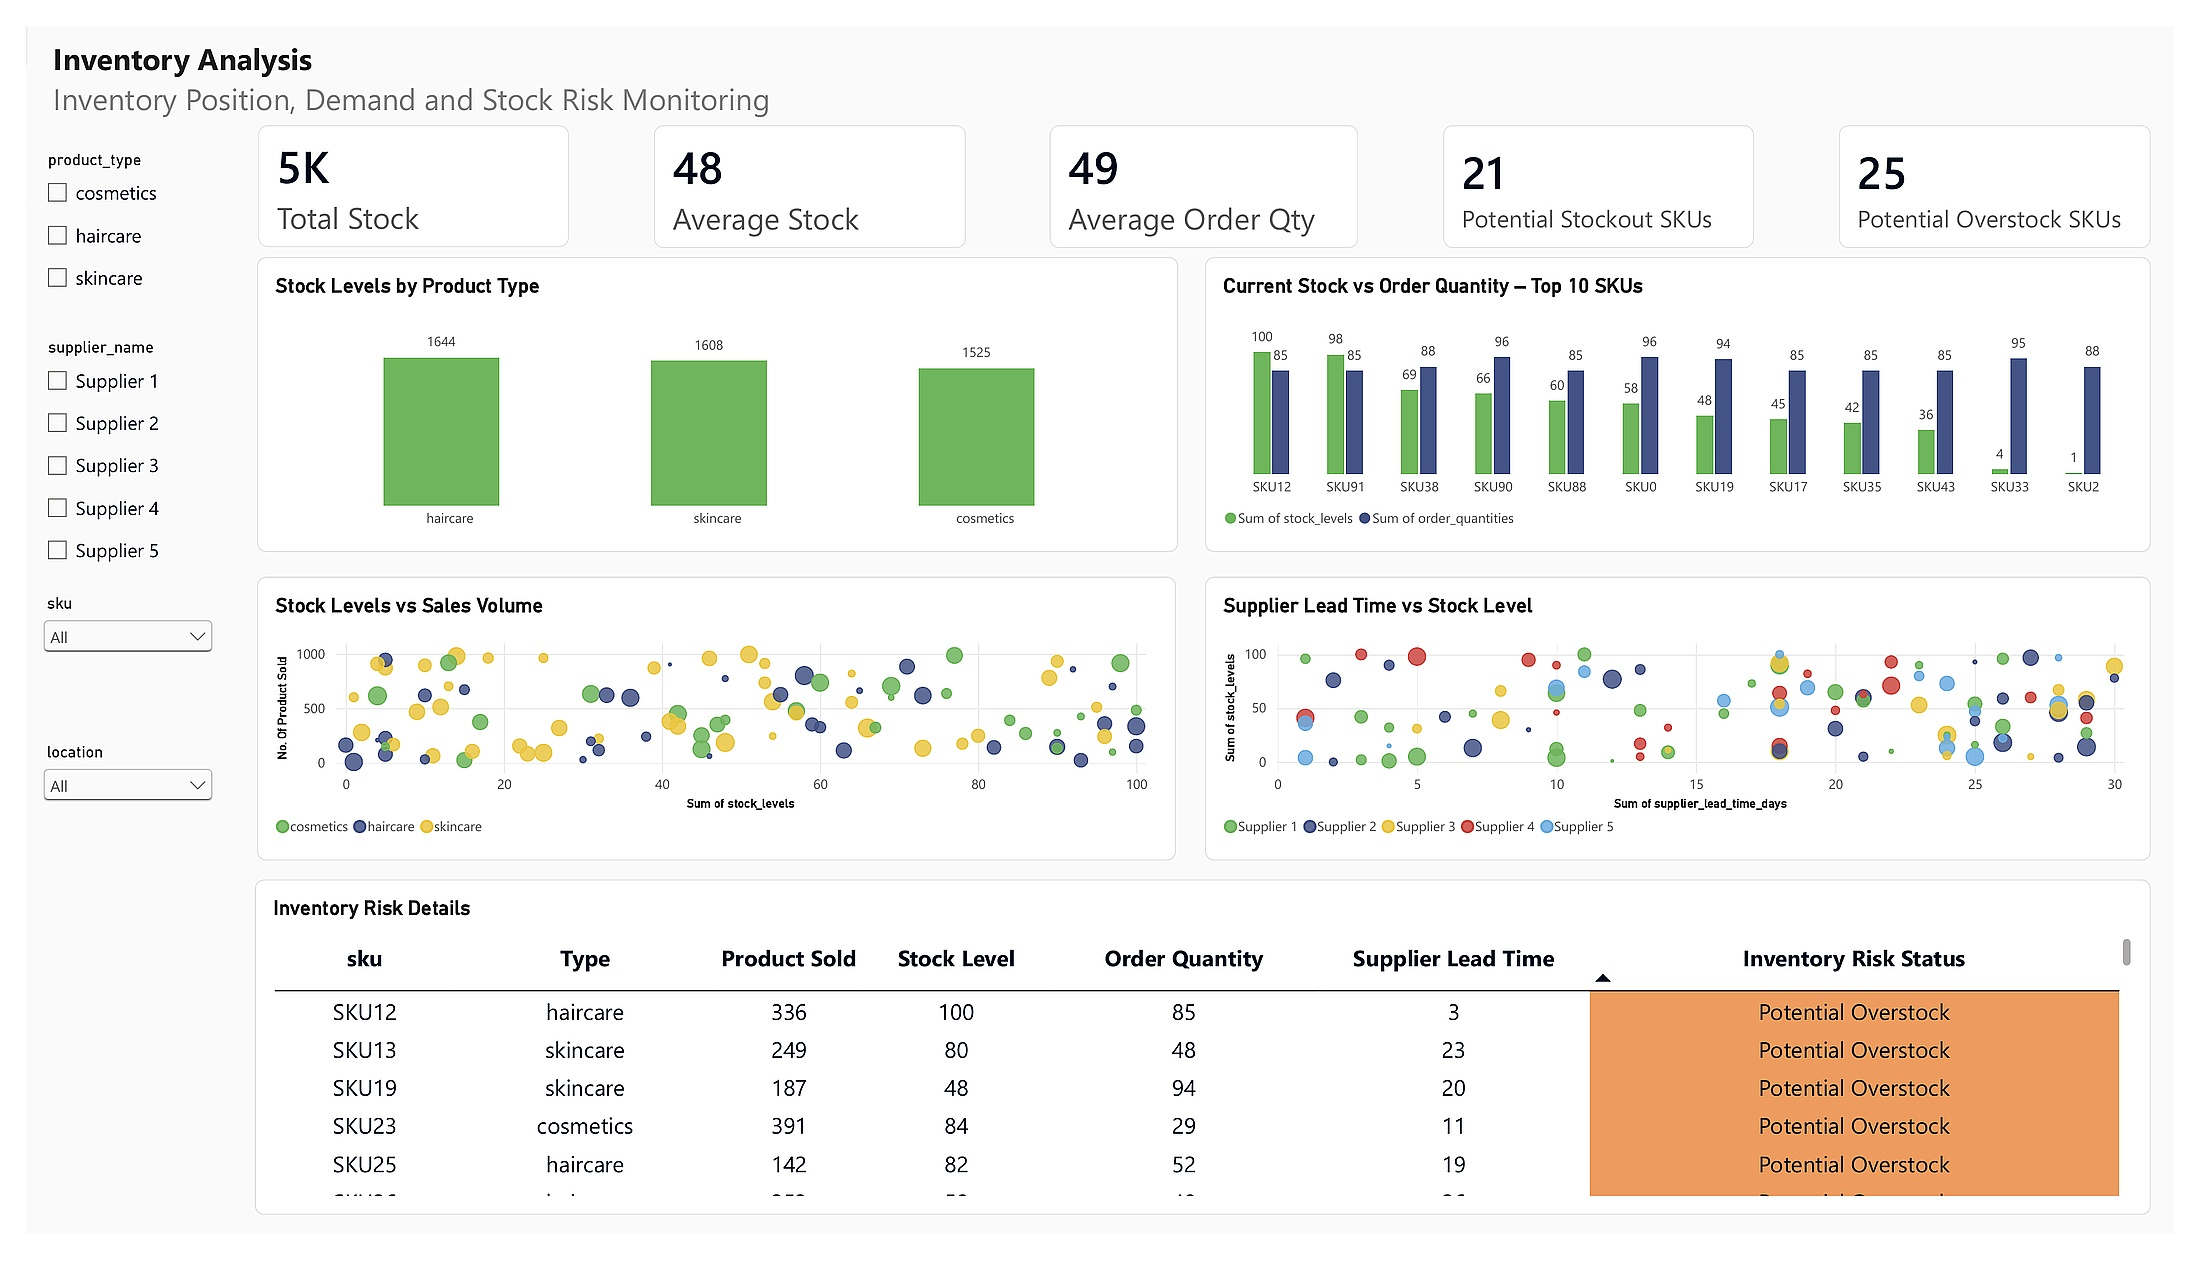

This screenshot's page, from the dashboard's own definition file:
{"tool":"powerbi","page":{"name":"Inventory Analysis","canvas":[1920,1080],"ordinal":2},"visuals":[{"type":"cardVisual","fields":{"Data":["Sum(supply_chain_data_cleaned.stock_levels)"]},"box":[207,88,278.5,109.3],"z":0},{"type":"cardVisual","fields":{"Data":["Avg(supply_chain_data_cleaned.stock_levels)"]},"box":[561.2,88.5,278.5,109.3],"z":1000},{"type":"cardVisual","fields":{"Data":["Avg(supply_chain_data_cleaned.order_quantities)"]},"box":[915.4,88.5,275.8,109.3],"z":2000},{"type":"textbox","box":[24.5,10.2,698,79.6],"z":3000},{"type":"clusteredColumnChart","title":"Stock Levels by Product Type","fields":{"Category":["supply_chain_data_cleaned.product_type"],"Y":["Sum(supply_chain_data_cleaned.stock_levels)"]},"box":[206,206,824,264],"z":4000},{"type":"scatterChart","title":"Stock Levels vs Sales Volume","fields":{"Category":["supply_chain_data_cleaned.sku"],"Series":["supply_chain_data_cleaned.product_type"],"Size":["Sum(supply_chain_data_cleaned.order_quantities)"],"X":["Sum(supply_chain_data_cleaned.stock_levels)"],"Y":["Avg(supply_chain_data_cleaned.number_of_products_sold)"]},"box":[206,492,822,254],"z":5000},{"type":"slicer","fields":{"Values":["supply_chain_data_cleaned.product_type"]},"box":[11,111,161,154],"z":6000},{"type":"slicer","fields":{"Values":["supply_chain_data_cleaned.supplier_name"]},"box":[11,279,161,214],"z":7000},{"type":"tableEx","title":"Inventory Risk Details","fields":{"Values":["supply_chain_data_cleaned.sku","supply_chain_data_cleaned.product_type","Sum(supply_chain_data_cleaned.number_of_products_sold)","Sum(supply_chain_data_cleaned.stock_levels)","Sum(supply_chain_data_cleaned.order_quantities)","Sum(supply_chain_data_cleaned.supplier_lead_time_days)","Calcs.Inventory Risk Status"]},"box":[204.3,763,1695.7,300],"z":8000},{"type":"clusteredColumnChart","title":"Current Stock vs Order Quantity – Top 10 SKUs","fields":{"Category":["supply_chain_data_cleaned.sku"],"Y":["Sum(supply_chain_data_cleaned.stock_levels)","Sum(supply_chain_data_cleaned.order_quantities)"]},"box":[1054,206,846,264],"z":9000},{"type":"cardVisual","fields":{"Data":["Calcs.Stock Risk SKUs"]},"box":[1267,88.5,278.5,109.3],"z":10000},{"type":"cardVisual","fields":{"Data":["Calcs.Overstock SKUs"]},"box":[1621.3,88.5,278.5,109.3],"z":11000},{"type":"scatterChart","title":"Supplier Lead Time vs Stock Level","fields":{"Category":["supply_chain_data_cleaned.sku"],"Series":["supply_chain_data_cleaned.supplier_name"],"Size":["Sum(supply_chain_data_cleaned.number_of_products_sold)"],"X":["Sum(supply_chain_data_cleaned.supplier_lead_time_days)"],"Y":["Sum(supply_chain_data_cleaned.stock_levels)"]},"box":[1054,492,846,254],"z":12000},{"type":"slicer","fields":{"Values":["supply_chain_data_cleaned.sku"]},"box":[10.2,508.2,161.2,110.2],"z":13000},{"type":"slicer","fields":{"Values":["supply_chain_data_cleaned.location"]},"box":[10.2,640.8,161.2,104.1],"z":14000}]}

Visuals, with their boxes in screenshot pixels (x1, y1, x2, y2), scaled from the page's 1920x1080 canvas onto the 2200x1261 screenshot:
cardVisual - Sum(supply_chain_data_cleaned.stock_levels): region(237, 103, 556, 230)
cardVisual - Avg(supply_chain_data_cleaned.stock_levels): region(643, 103, 962, 231)
cardVisual - Avg(supply_chain_data_cleaned.order_quantities): region(1049, 103, 1365, 231)
textbox: region(28, 12, 828, 105)
"Stock Levels by Product Type" clusteredColumnChart: region(236, 241, 1180, 549)
"Stock Levels vs Sales Volume" scatterChart: region(236, 574, 1178, 871)
slicer - supply_chain_data_cleaned.product_type: region(13, 130, 197, 309)
slicer - supply_chain_data_cleaned.supplier_name: region(13, 326, 197, 576)
"Inventory Risk Details" tableEx: region(234, 891, 2177, 1241)
"Current Stock vs Order Quantity – Top 10 SKUs" clusteredColumnChart: region(1208, 241, 2177, 549)
cardVisual - Calcs.Stock Risk SKUs: region(1452, 103, 1771, 231)
cardVisual - Calcs.Overstock SKUs: region(1858, 103, 2177, 231)
"Supplier Lead Time vs Stock Level" scatterChart: region(1208, 574, 2177, 871)
slicer - supply_chain_data_cleaned.sku: region(12, 593, 196, 722)
slicer - supply_chain_data_cleaned.location: region(12, 748, 196, 870)
